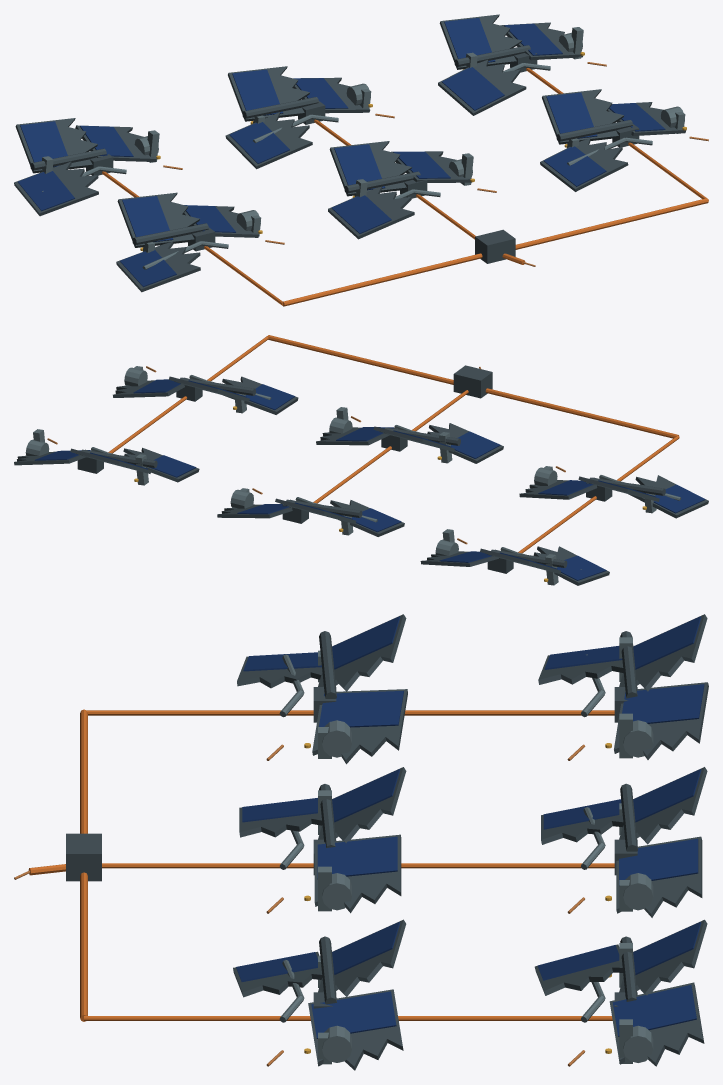
The model's file is solar_array_d3.glb.
3 views of the same model, one above another, from view 1: azimuth 30°, elevation 25°; view 2: azimuth 150°, elevation 25°; view 3: azimuth 270°, elevation 25° (orthographic). The views are drawn at different scales.
Parts seen in each view (by area): view 1: SOLAR_GAME_MESH; view 2: SOLAR_GAME_MESH; view 3: SOLAR_GAME_MESH.
Part boxes in pixels (<box>): SOLAR_GAME_MESH: <box>14,14,708,306</box>; SOLAR_GAME_MESH: <box>14,335,708,585</box>; SOLAR_GAME_MESH: <box>14,614,708,1070</box>.
Bounding box in the file's own units: 16.33 × 1.34 × 11.54.
